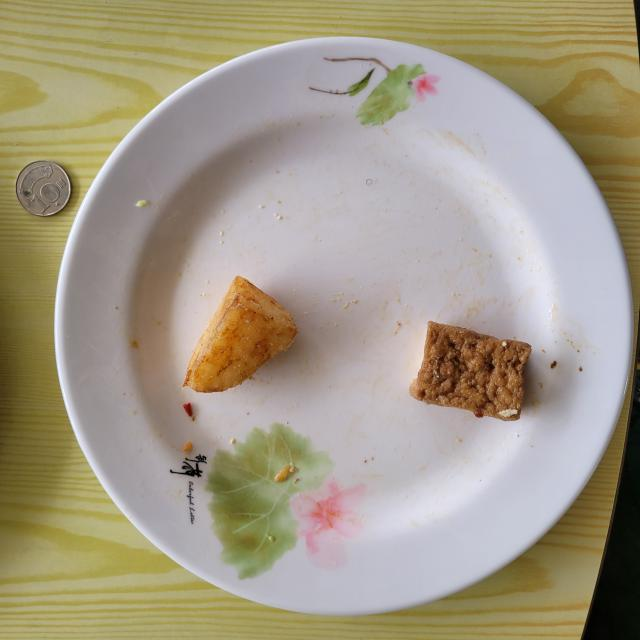coin: (15, 161, 71, 216)
egg tofu: (410, 321, 531, 420)
fried potato: (184, 276, 298, 392)
